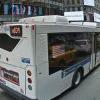Bus: (2, 8, 98, 99)
